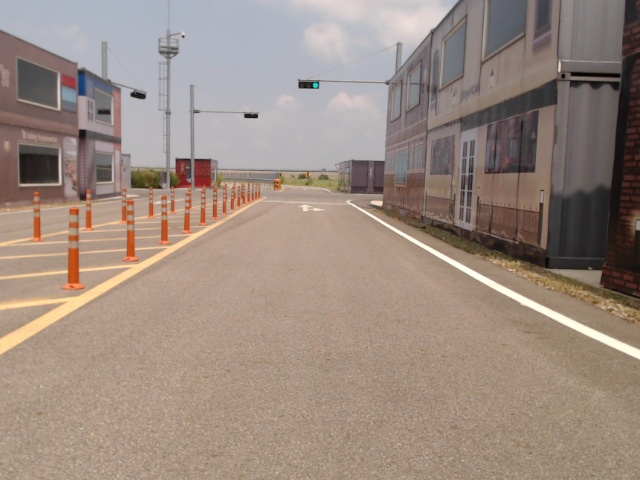green_3: (298, 81, 320, 89)
